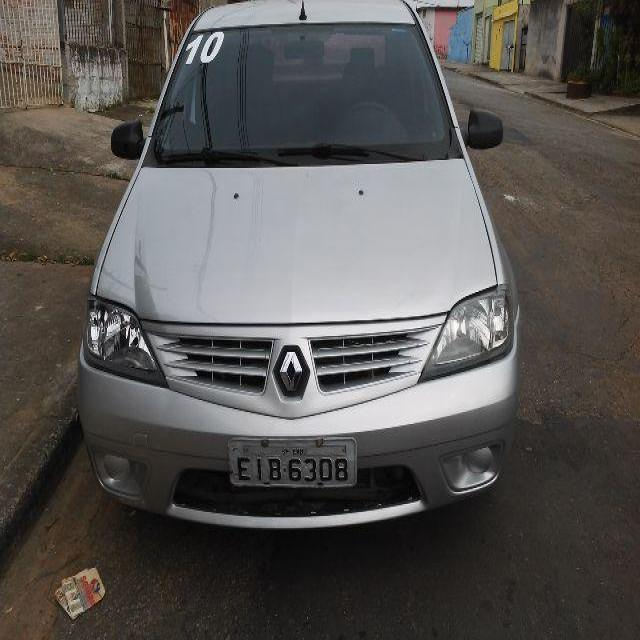Placa: (223, 431, 362, 496)
